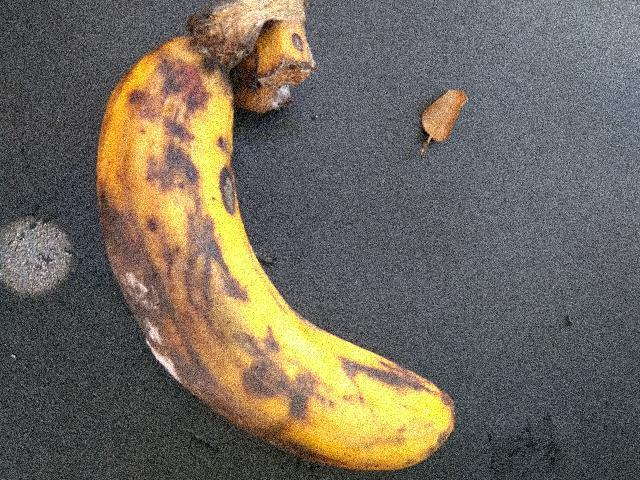overripe: (97, 37, 469, 479)
rotten: (84, 151, 294, 460)
